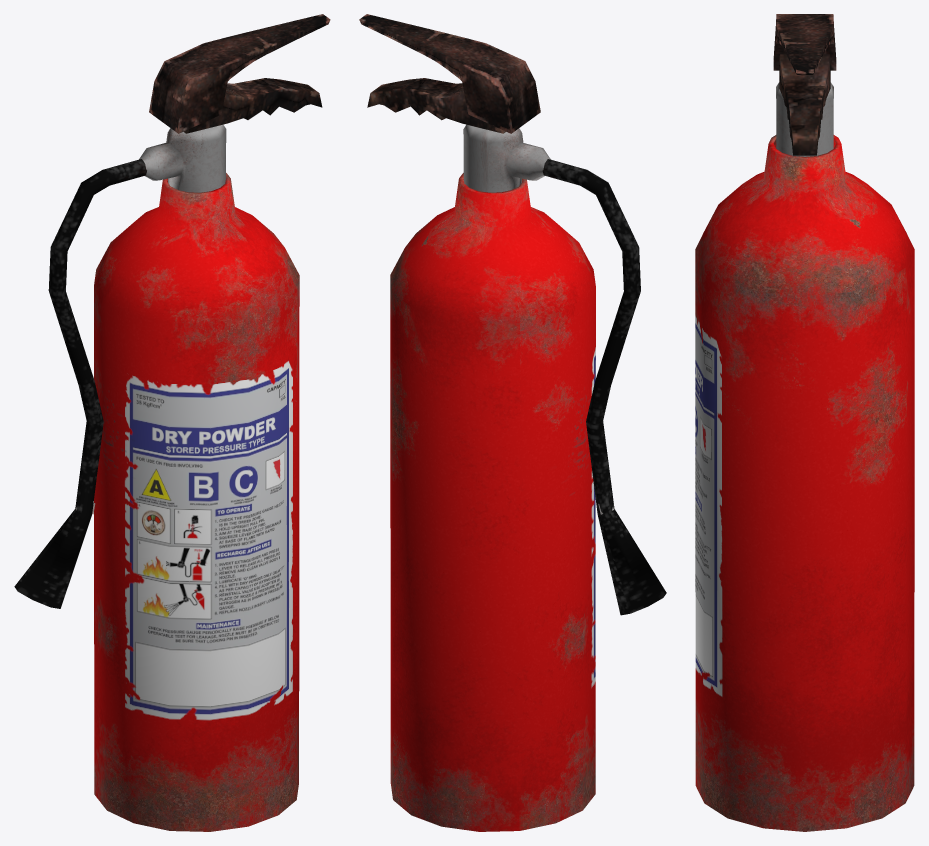
File: Fire ext.fbx
3 renders of one model, left to right at view 1: azimuth 30°, elevation 25°; view 2: azimuth 150°, elevation 25°; view 3: azimuth 270°, elevation 25°, orthographic. The views are drawn at different scales.
Parts seen in each view (by area): view 1: Fire_extinguisher; view 2: Fire_extinguisher; view 3: Fire_extinguisher.
Part boxes in pixels (<box>): Fire_extinguisher: <box>14,14,330,831</box>; Fire_extinguisher: <box>359,14,666,831</box>; Fire_extinguisher: <box>695,14,914,831</box>.
Size of the model in its own units: 160 by 374 by 94.5.
Materials: 1 (1 with a texture image).
